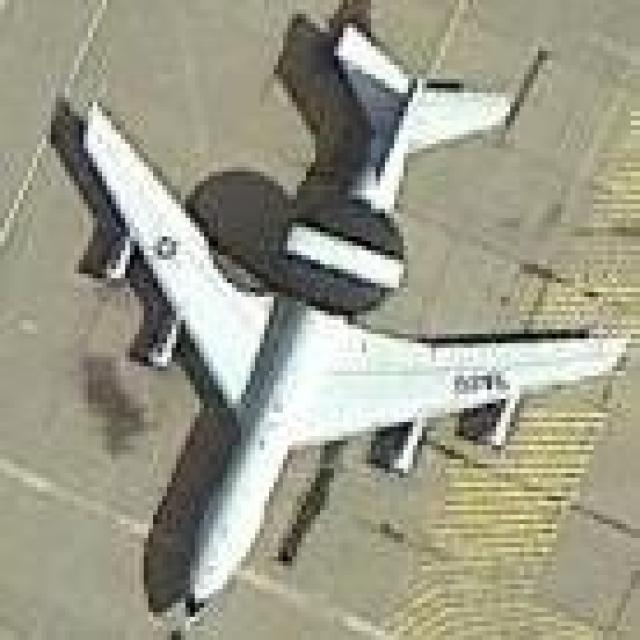E-3_TopDown: (53, 2, 635, 626)
